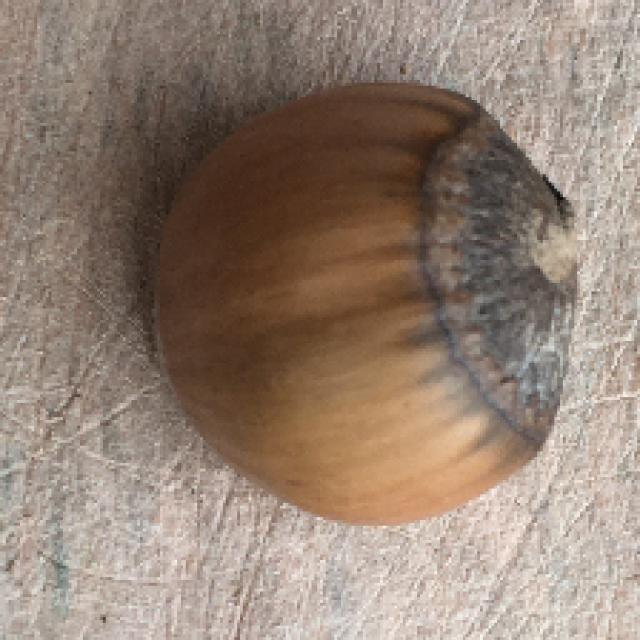DamagedHazelnut: (153, 88, 589, 522)
